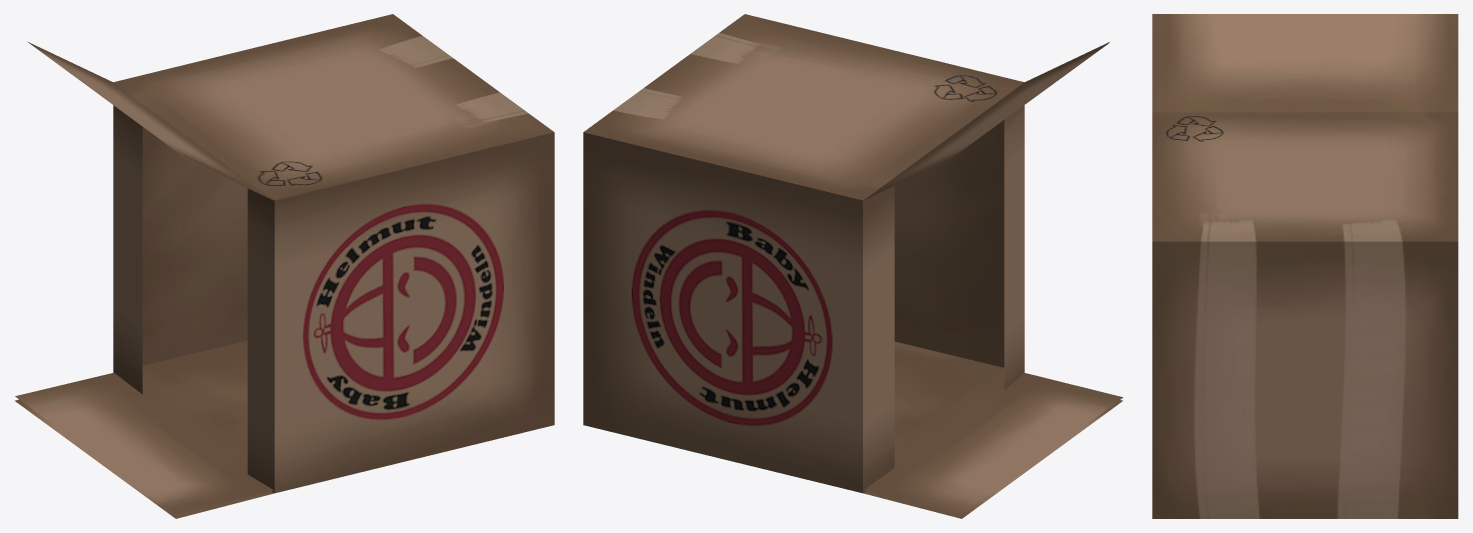
The model's file is boxboard_dropped.fbx.
The picture shows the model from 3 angles, left to right: view 1: azimuth 30°, elevation 25°; view 2: azimuth 150°, elevation 25°; view 3: azimuth 270°, elevation 25°; orthographic projection. The views are drawn at different scales.
Visible parts, largest first — view 1: group46_pasted__group25_pasted__pasted__pCube15; view 2: group46_pasted__group25_pasted__pasted__pCube15; view 3: group46_pasted__group25_pasted__pasted__pCube15.
Boxes of the visible parts, x1,y1,x2,y2 form: group46_pasted__group25_pasted__pasted__pCube15: [15, 14, 554, 518]; group46_pasted__group25_pasted__pasted__pCube15: [583, 14, 1123, 518]; group46_pasted__group25_pasted__pasted__pCube15: [1152, 14, 1458, 518].
Size of the model in its own units: 136 by 122 by 100.
